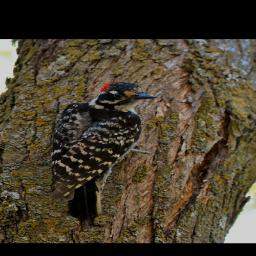Woodpecker: (58, 79, 156, 229)
